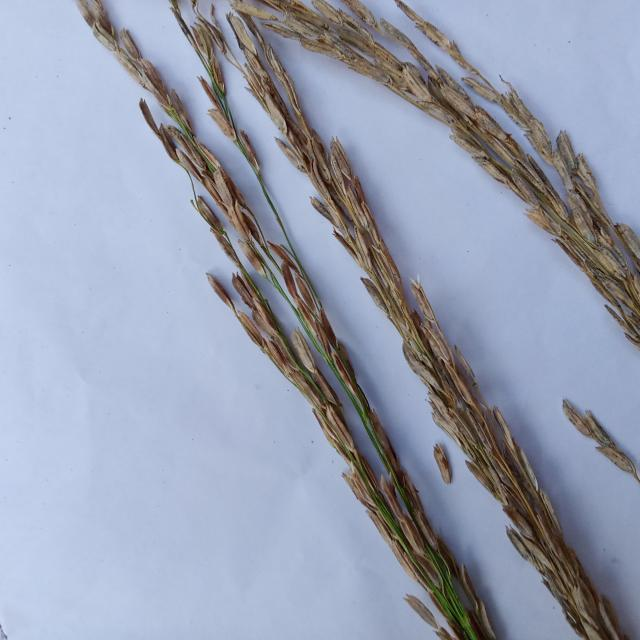Neck_Blast: (83, 7, 501, 639), (239, 31, 628, 639), (271, 0, 640, 344)
